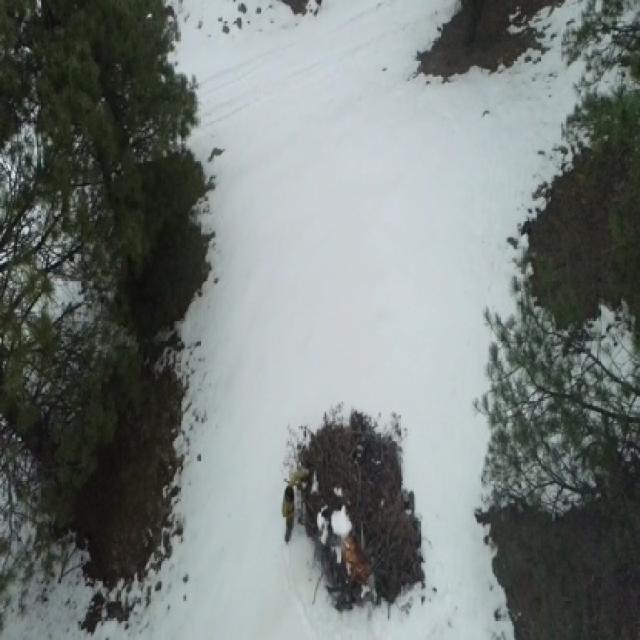Fire: (343, 534, 365, 580)
